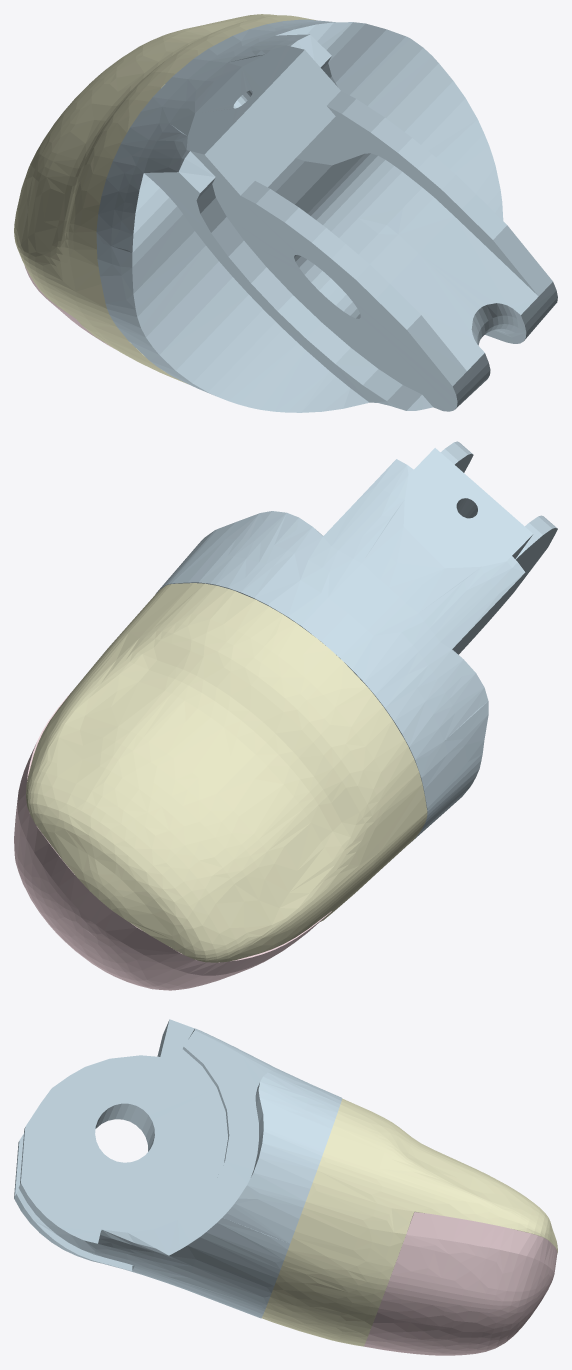
File: i02_rightHand_pinkyTip_visual.obj.balanced.glb
3 views of the same model, one above another, from view 1: azimuth 30°, elevation 25°; view 2: azimuth 150°, elevation 25°; view 3: azimuth 270°, elevation 25° (orthographic). The views are drawn at different scales.
Size of the model in its own units: 0.1654 by 0.1995 by 0.326.
